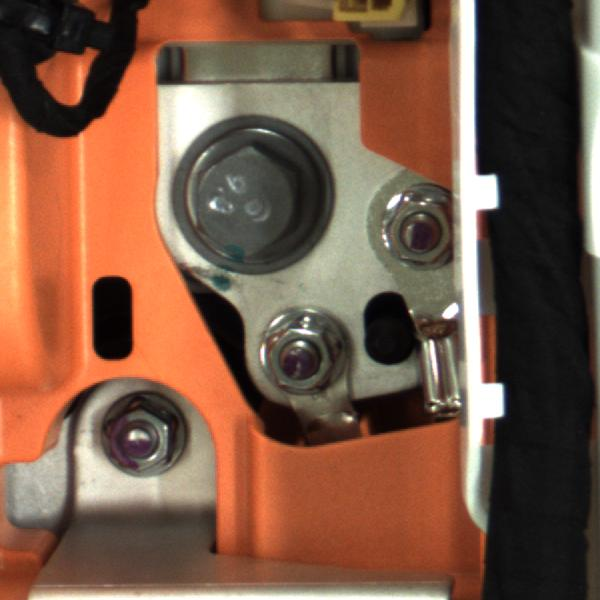nut_b: (176, 126, 321, 264)
screw_s: (97, 393, 208, 491), (368, 182, 464, 273), (269, 306, 346, 397)
